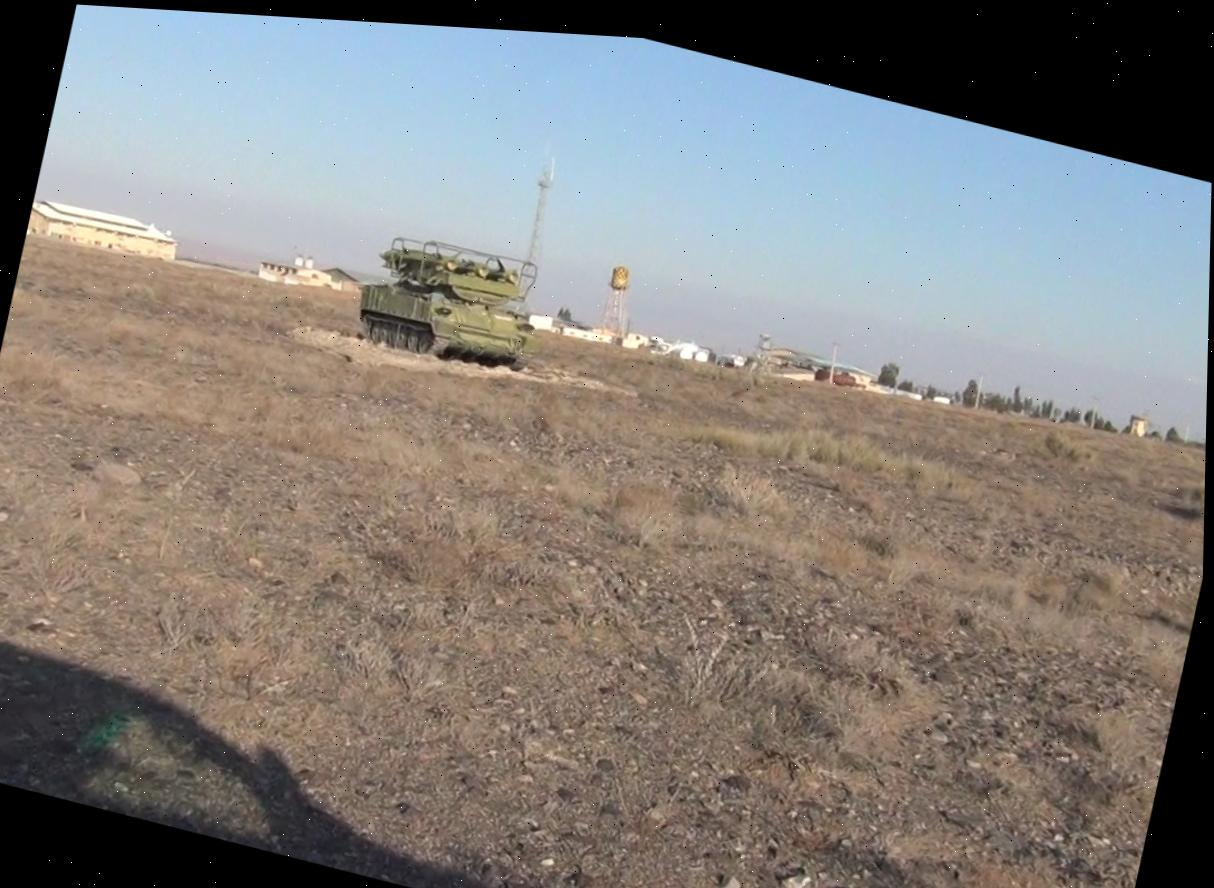armored_car: (345, 221, 555, 384)
